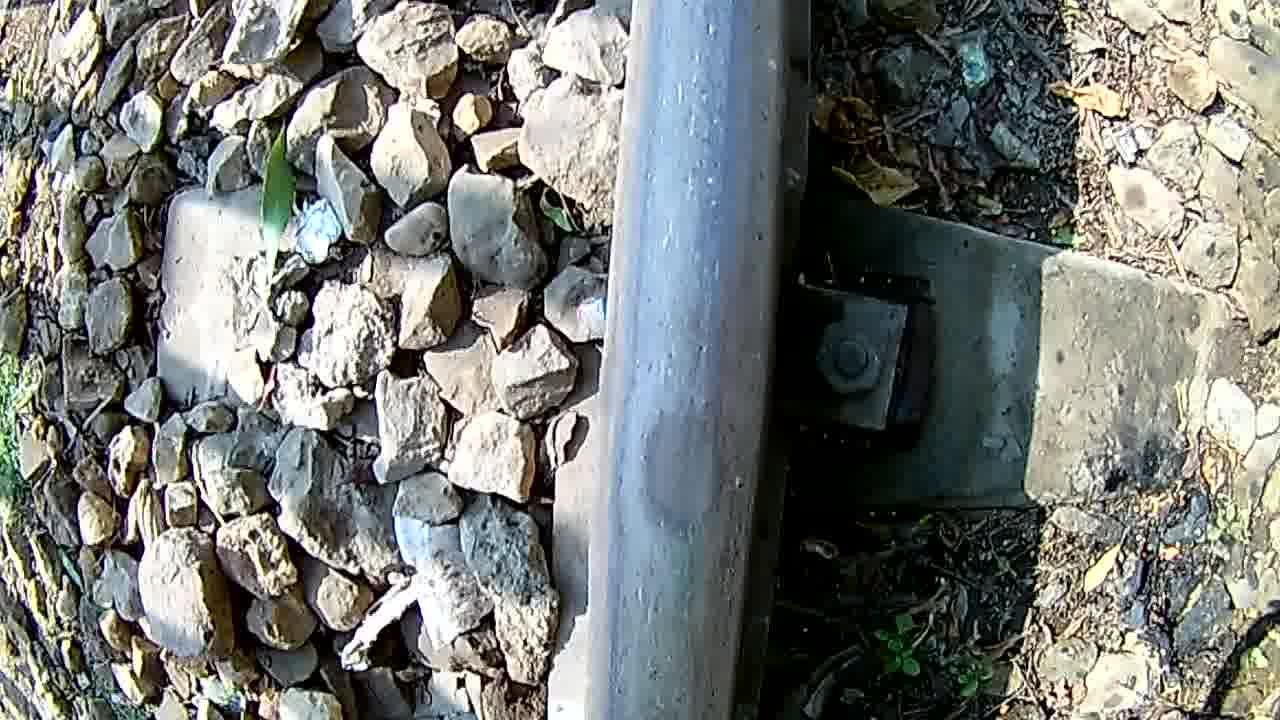bolt_missing: (614, 19, 791, 720)
